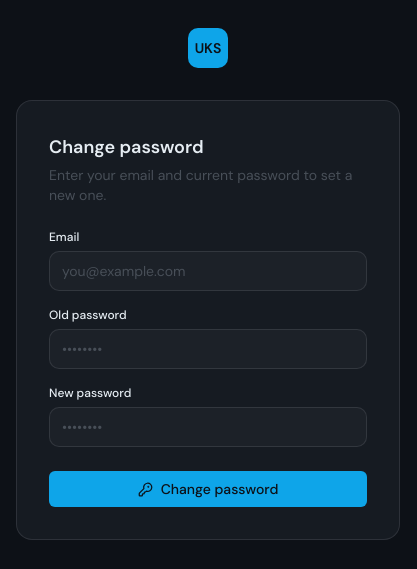
Scenario: ChangePasswordPage › prikazuje gresku kada je oldPassword prazan
This screenshot has width=417, height=569.
Type "test@test.com" into the field labelled "Email" at (208,271), box 50,252 -> 366,290
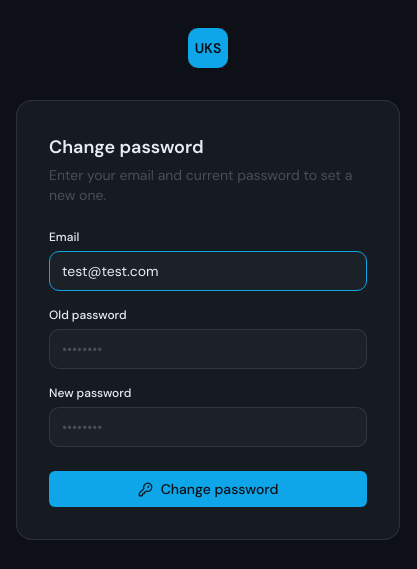
Type "NewPass1" into the password field labelled "New password" at (208,427), box 50,408 -> 366,446
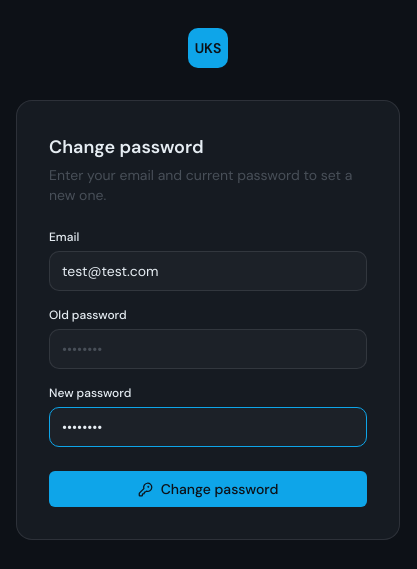
Click the button "Change password" at (208,489), box 49,471 -> 367,507
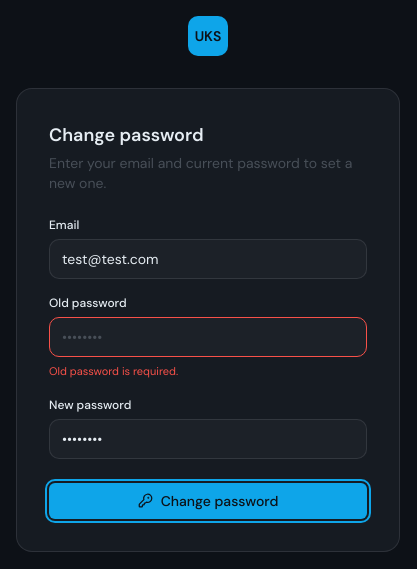
Check: the text "Old password is required." is shown, box 49,364 -> 178,378
